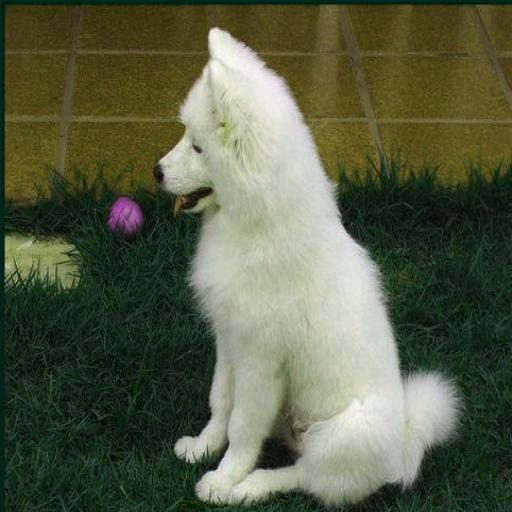dog_face: (154, 38, 236, 215)
